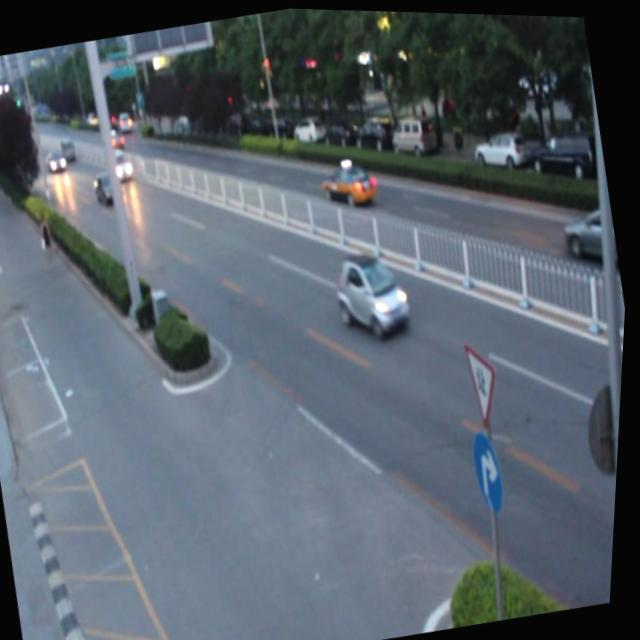car: (330, 246, 417, 342), (559, 198, 625, 276), (318, 154, 381, 211), (93, 168, 127, 210)
truck: (106, 148, 136, 183)
